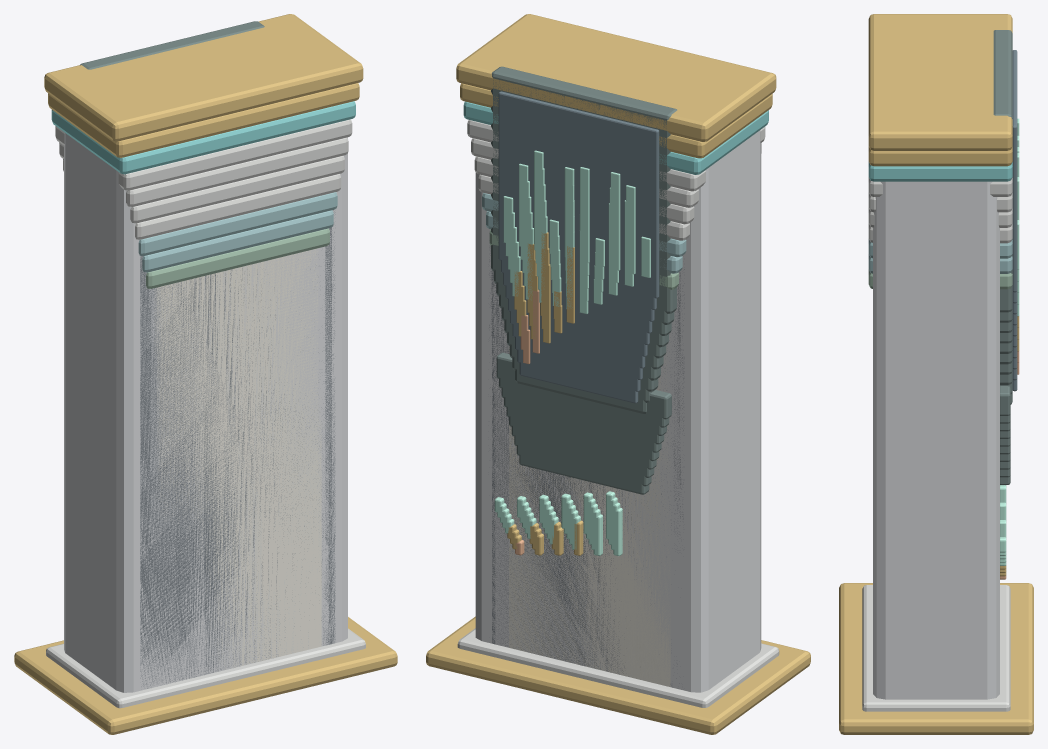
Rendered from Gear15.fbx.
3 renders of one model, left to right at view 1: azimuth 30°, elevation 25°; view 2: azimuth 150°, elevation 25°; view 3: azimuth 270°, elevation 25°, orthographic.
Visible parts, largest first — view 1: Gear15_V10_Platinum, Gear15_V3_Linen, Gear15_V8_Graphite, Gear15_V10_Gold, Gear15_V5_Platinum, Gear15_V4_Linen, Gear15_V9_Gold, Gear15_V9_Platinum, Gear15_V8_Aqua, Gear15_V2_Ivory, Gear15_V6_Chrome, Gear15_V7_Chrome (+10 smaller); view 2: Gear15_V10_Platinum, Gear15_V10_Gold, Gear15_V10_Glass, Gear15_V4_Linen, Gear15_V9_Platinum, Gear15_V7_Graphite, Gear15_V9_Gold, Gear15_V10_Glow, Gear15_V10_Ink, Gear15_V3_Glass, Gear15_V1_Glass, Gear15_V2_Ivory (+36 smaller); view 3: Gear15_V10_Platinum, Gear15_V10_Gold, Gear15_V9_Gold, Gear15_V10_Chrome, Gear15_V10_Ink, Gear15_V8_Aqua, Gear15_V8_Chrome, Gear15_V10_Glass, Gear15_V10_Glow, Gear15_V7_Chrome, Gear15_V9_Chrome, Gear15_V4_Chrome (+2 smaller).
Boxes of the visible parts, bbox=[...] form: Gear15_V10_Platinum: bbox=[64, 133, 347, 692]; Gear15_V3_Linen: bbox=[157, 248, 318, 665]; Gear15_V8_Graphite: bbox=[140, 210, 335, 688]; Gear15_V10_Gold: bbox=[14, 14, 397, 734]; Gear15_V5_Platinum: bbox=[150, 246, 325, 678]; Gear15_V4_Linen: bbox=[154, 267, 321, 669]; Gear15_V9_Gold: bbox=[21, 83, 391, 721]; Gear15_V9_Platinum: bbox=[137, 191, 338, 663]; Gear15_V8_Aqua: bbox=[51, 101, 355, 174]; Gear15_V2_Ivory: bbox=[160, 254, 300, 518]; Gear15_V6_Chrome: bbox=[59, 137, 350, 699]; Gear15_V7_Chrome: bbox=[55, 119, 353, 700]; Gear15_V10_Platinum: bbox=[475, 130, 761, 692]; Gear15_V10_Gold: bbox=[426, 14, 810, 734]; Gear15_V10_Glass: bbox=[498, 91, 659, 298]; Gear15_V4_Linen: bbox=[503, 328, 670, 686]; Gear15_V9_Platinum: bbox=[485, 236, 687, 691]; Gear15_V7_Graphite: bbox=[492, 271, 680, 674]; Gear15_V9_Gold: bbox=[432, 83, 802, 733]; Gear15_V10_Glow: bbox=[494, 150, 650, 539]; Gear15_V10_Ink: bbox=[491, 66, 677, 419]; Gear15_V3_Glass: bbox=[515, 222, 642, 379]; Gear15_V1_Glass: bbox=[519, 261, 638, 403]; Gear15_V2_Ivory: bbox=[509, 346, 587, 666]; Gear15_V10_Platinum: bbox=[873, 181, 999, 699]; Gear15_V10_Gold: bbox=[839, 14, 1033, 734]; Gear15_V9_Gold: bbox=[839, 146, 1033, 721]; Gear15_V10_Chrome: bbox=[862, 585, 1010, 711]; Gear15_V10_Ink: bbox=[993, 30, 1012, 415]; Gear15_V8_Aqua: bbox=[868, 162, 1012, 181]; Gear15_V8_Chrome: bbox=[863, 588, 1010, 702]; Gear15_V10_Glass: bbox=[1012, 50, 1017, 292]; Gear15_V10_Glow: bbox=[1000, 118, 1019, 552]; Gear15_V7_Chrome: bbox=[865, 177, 1012, 700]; Gear15_V9_Chrome: bbox=[862, 587, 1010, 703]; Gear15_V4_Chrome: bbox=[863, 223, 1012, 694].
Bounding box in the file's own units: 78.56 × 155 × 46.
